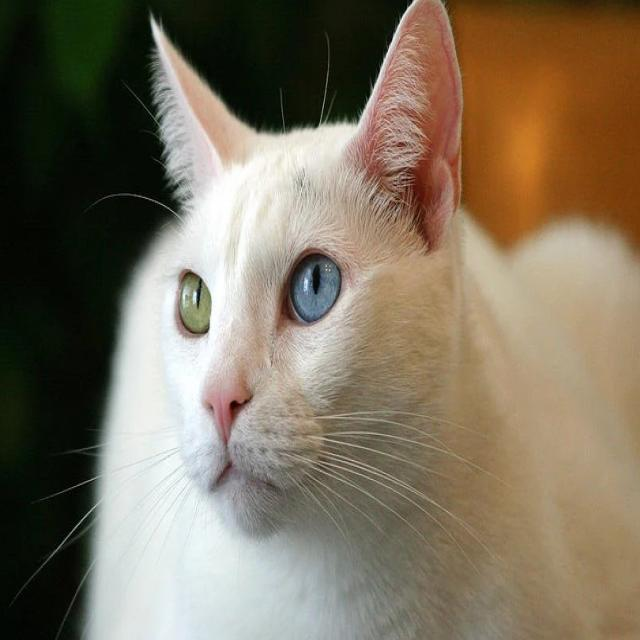Khao Manee: (73, 0, 640, 640)
